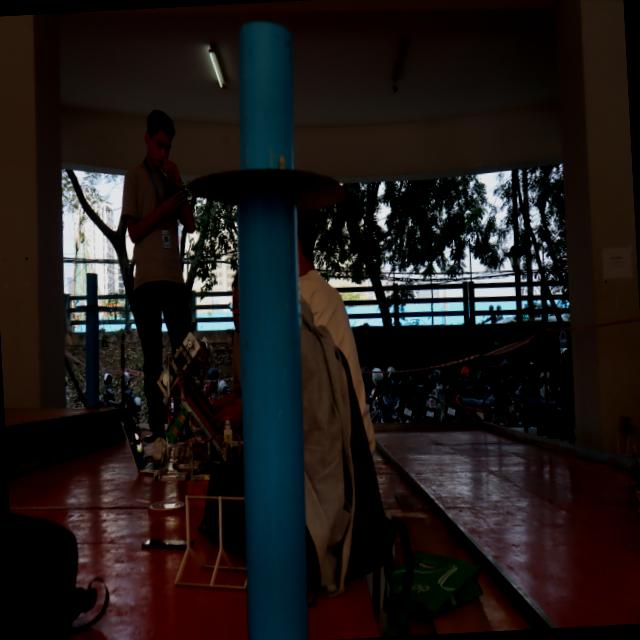pole: (166, 8, 363, 444)
